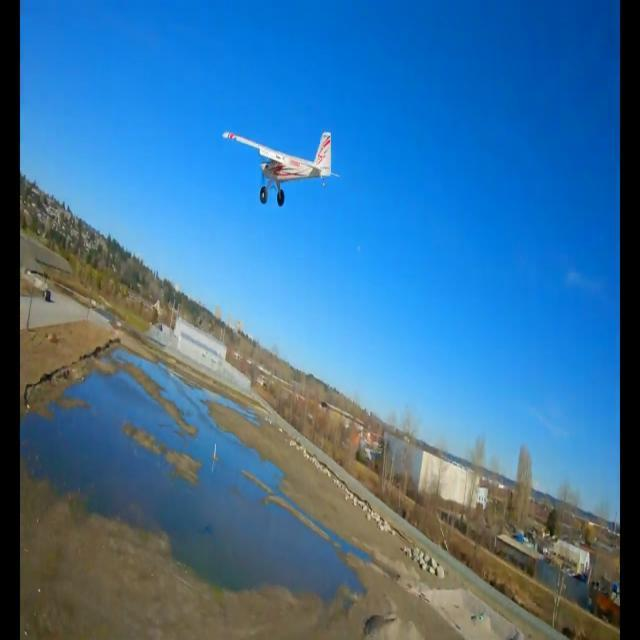iha: (214, 156, 342, 180)
